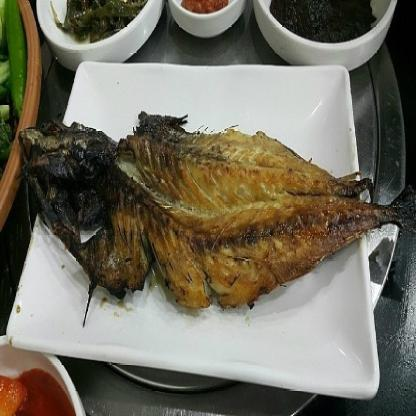Peixe: (9, 107, 409, 324)
